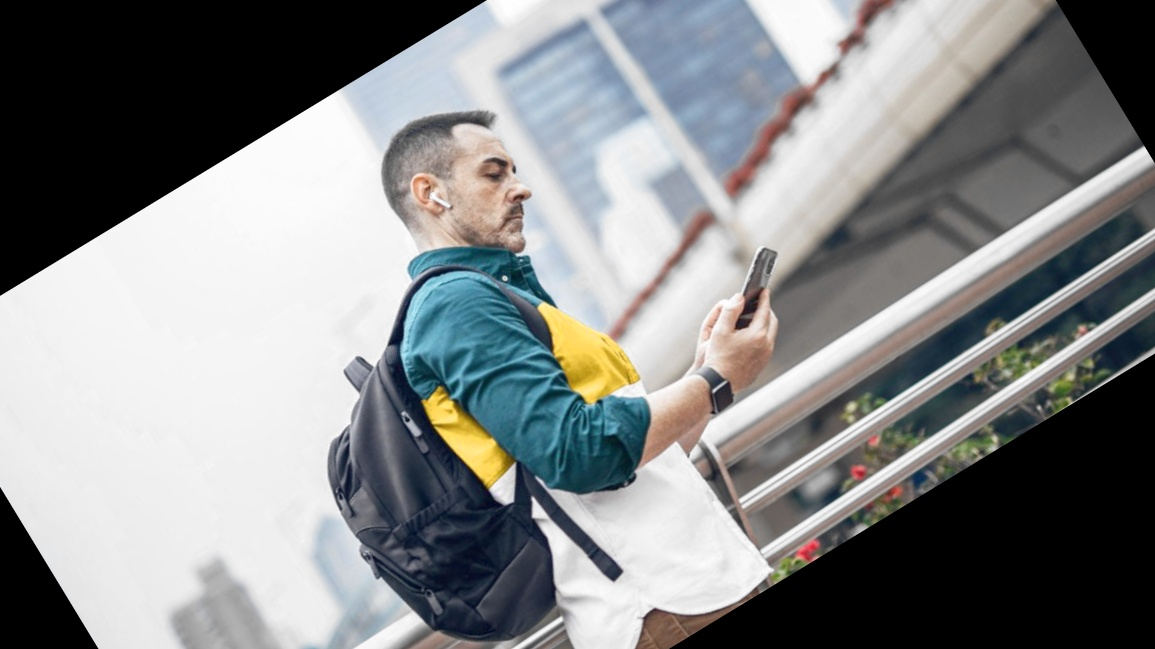earphone: (405, 165, 457, 222)
